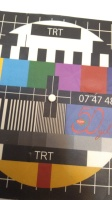Yuvarlak Buskopan: (47, 93, 57, 102)
